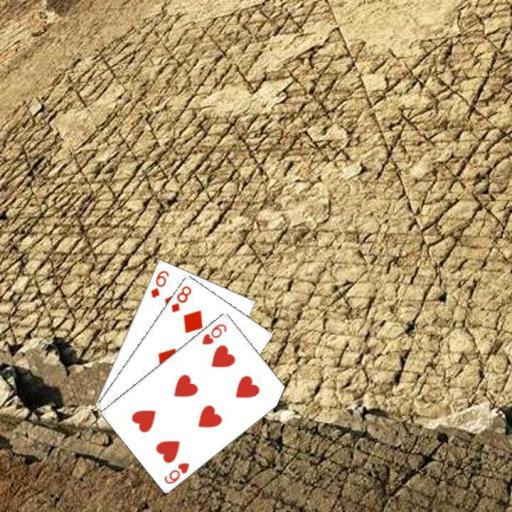6D: (147, 267, 171, 299)
6H: (199, 320, 229, 346), (161, 459, 191, 485)
8D: (168, 283, 193, 315)
